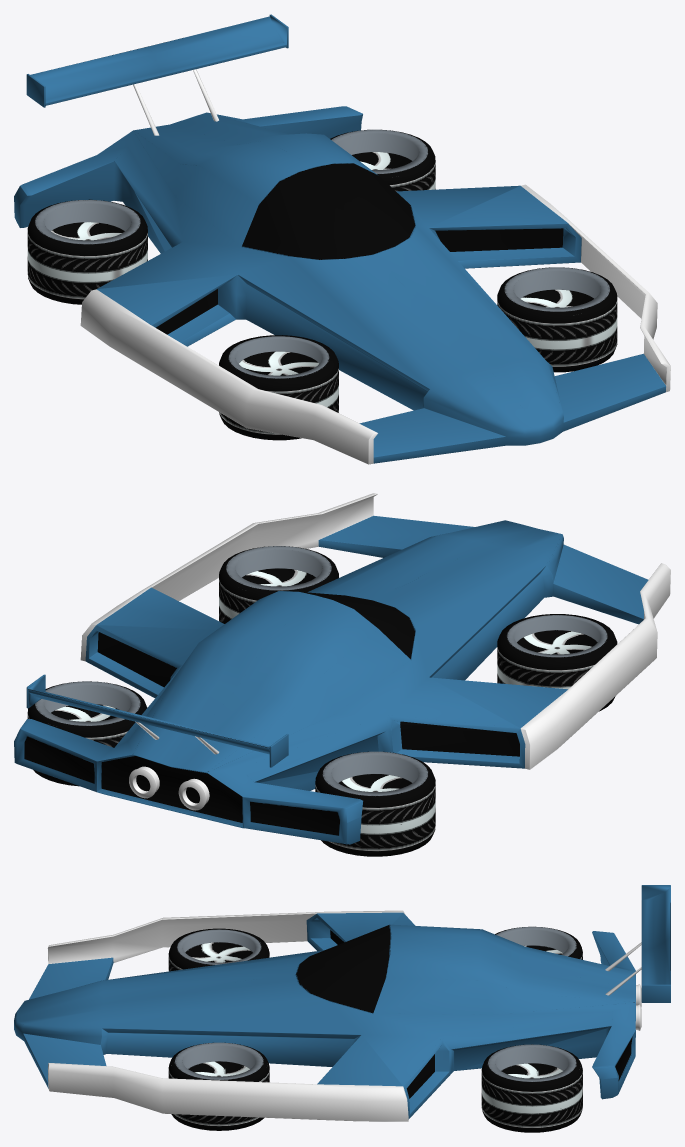
Rendered from CarModel_Hover.fbx.
3 views of the same model, one above another, from view 1: azimuth 30°, elevation 25°; view 2: azimuth 150°, elevation 25°; view 3: azimuth 270°, elevation 25° (orthographic). The views are drawn at different scales.
Visible parts, largest first — view 1: DefaultCar, Tire.002, Tire.001, Tire, Tire.003; view 2: DefaultCar, Tire.002, Tire, Tire.001, Tire.003; view 3: DefaultCar, Tire.003, Tire.001, Tire, Tire.002.
Boxes of the visible parts, x1,y1,x2,y2 form: DefaultCar: (14,14,670,464); Tire.002: (27,199,147,304); Tire.001: (497,267,617,372); Tire: (219,335,338,440); Tire.003: (330,129,435,191); DefaultCar: (14,493,670,844); Tire.002: (315,751,435,856); Tire: (497,614,617,711); Tire.001: (219,546,338,623); Tire.003: (27,681,147,786); DefaultCar: (14,885,670,1121); Tire.003: (481,1044,582,1132); Tire.001: (168,1042,269,1130); Tire: (168,928,269,971); Tire.002: (495,926,582,959).
Size of the model in its own units: 194 by 58.92 by 292.
Materials: 3 (2 with a texture image).
